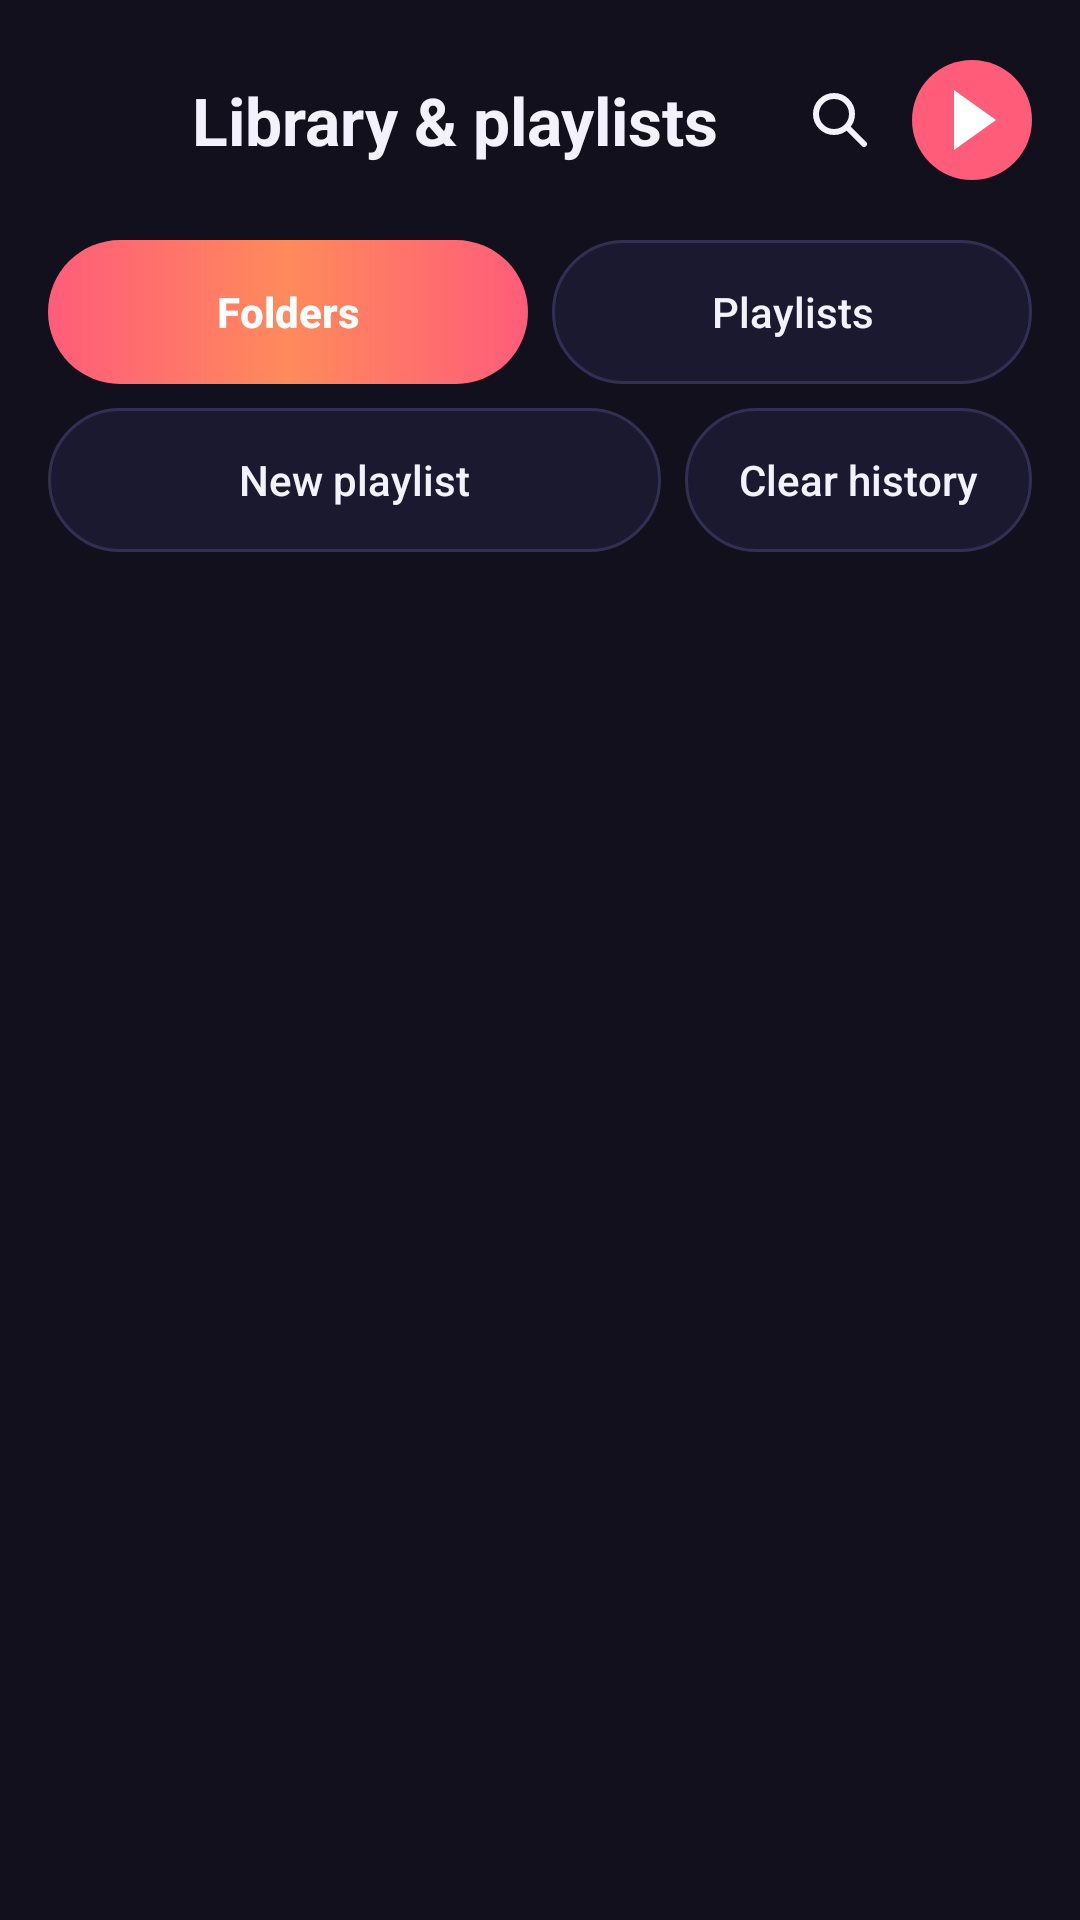

Where to tap for icons on this 1080 x 1920 app screen, as point (x, y):
Play recent: point (972, 120)
Search: point (840, 120)
